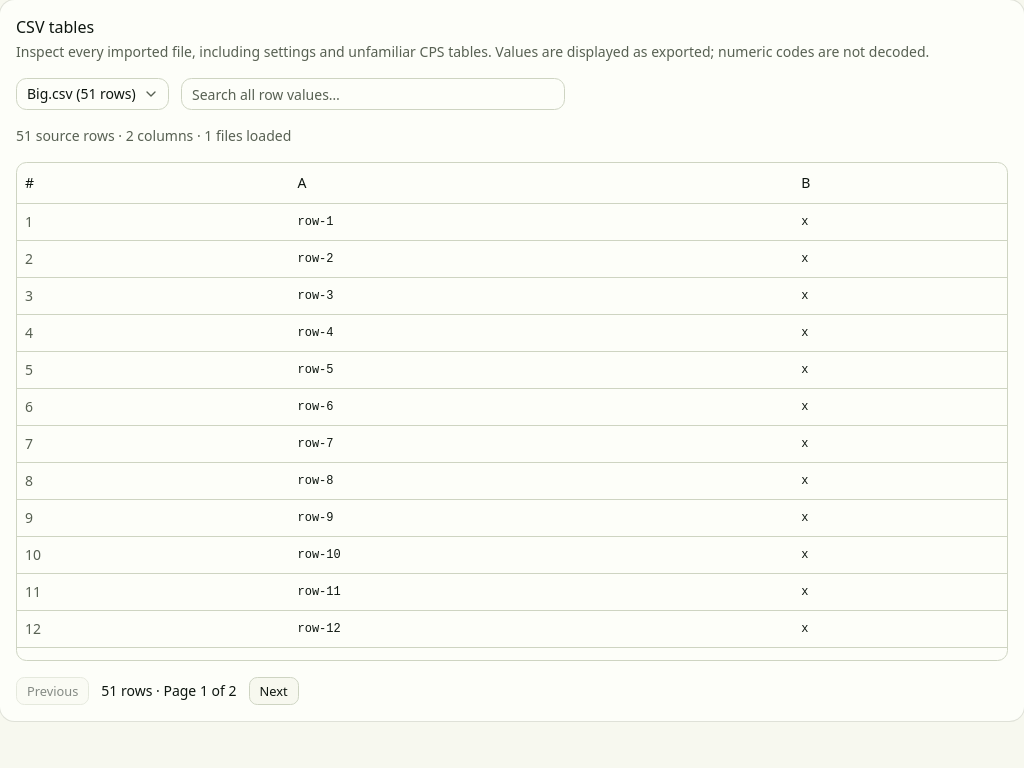
Test: rows are paged at fifty per page
This screenshot has width=1024, height=768.
Expected: the text "51 rows · Page 1 of 2" is shown, [101,681,236,701]
Expected: the button "Previous" is disabled, [16,677,89,705]
Click the button "Next": (274,691) [248,677,299,705]
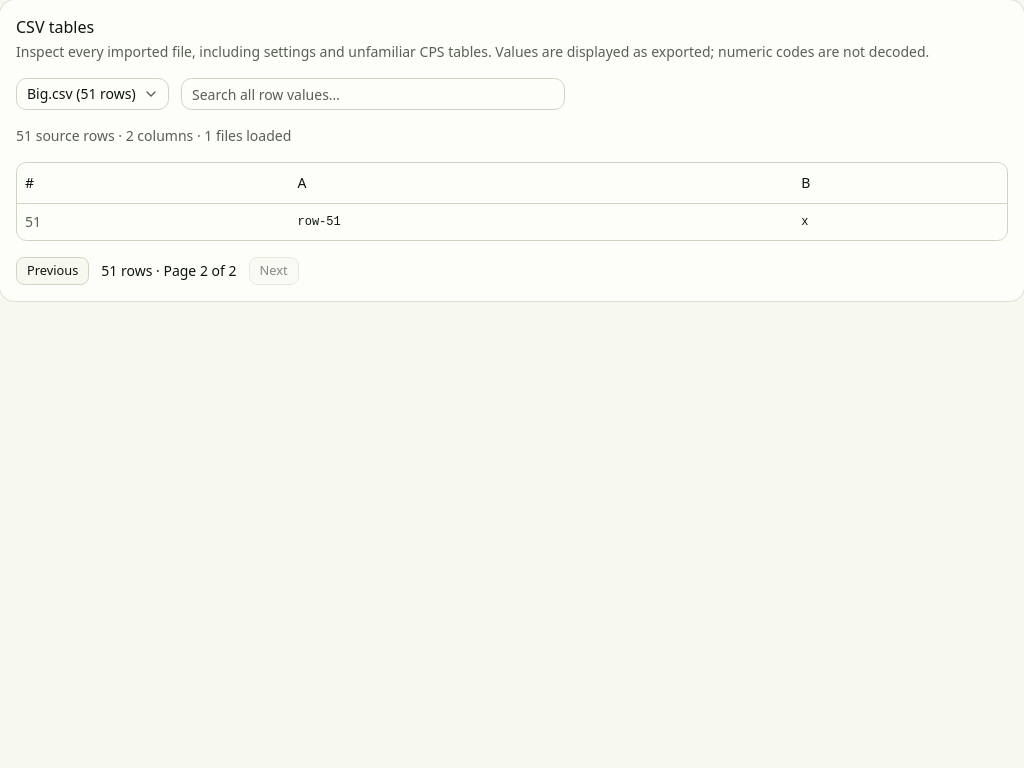
Now the text "row-51" is shown, box [290,203,793,240]
Now the button "Next" is disabled, box [248,256,299,284]
Now the button "Previous" is enabled, box [16,256,89,284]
